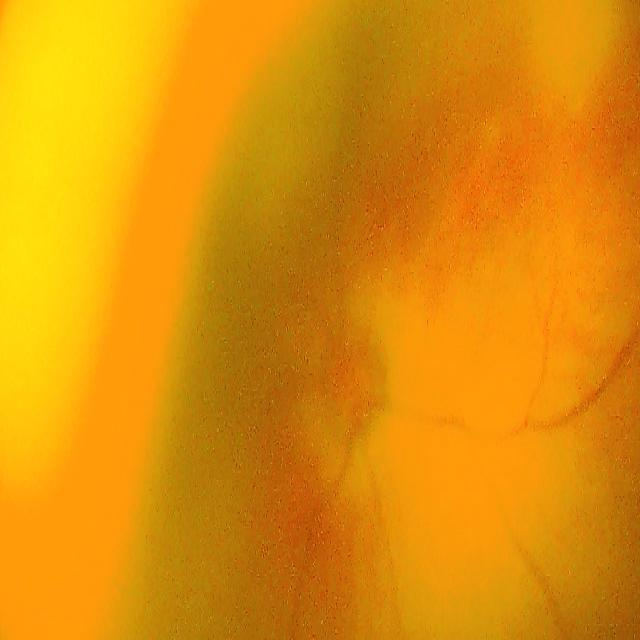optic-nerve: (304, 283, 408, 482)
